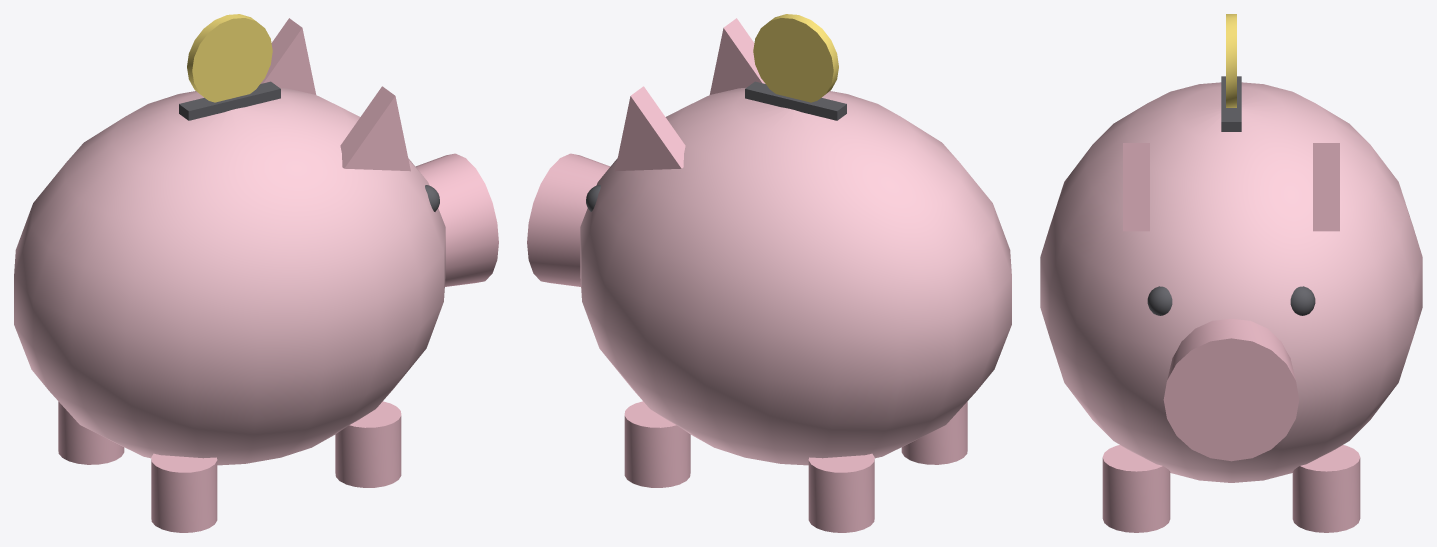
File: ong_heo.glb
3 views of the same model, side by side, from view 1: azimuth 30°, elevation 25°; view 2: azimuth 150°, elevation 25°; view 3: azimuth 270°, elevation 25° (orthographic). The views are drawn at different scales.
Visible parts, largest first — view 1: Sph1, Cyl1, Cyl2, Cyl4, Cyl6, Pri1, Pri2, Cyl3, Box1; view 2: Sph1, Cyl1, Cyl2, Cyl3, Cyl5, Pri2, Pri1, Cyl4, Box1; view 3: Sph1, Cyl1, Cyl5, Cyl6, Pri1, Pri2, Cyl2, Box1, Sph2, Sph3.
Part boxes in pixels (x1=…): Sph1: x1=14, y1=88, x2=445, y2=465; Cyl1: x1=415, y1=153, x2=498, y2=286; Cyl2: x1=187, y1=14, x2=272, y2=102; Cyl4: x1=151, y1=453, x2=217, y2=532; Cyl6: x1=335, y1=401, x2=401, y2=487; Pri1: x1=340, y1=86, x2=410, y2=171; Pri2: x1=260, y1=18, x2=316, y2=94; Cyl3: x1=58, y1=401, x2=124, y2=464; Box1: x1=179, y1=81, x2=280, y2=120; Sph1: x1=580, y1=88, x2=1011, y2=465; Cyl1: x1=527, y1=153, x2=610, y2=286; Cyl2: x1=753, y1=14, x2=838, y2=102; Cyl3: x1=808, y1=453, x2=874, y2=532; Cyl5: x1=624, y1=401, x2=690, y2=487; Pri2: x1=615, y1=86, x2=685, y2=171; Pri1: x1=709, y1=18, x2=765, y2=94; Cyl4: x1=901, y1=401, x2=967, y2=464; Box1: x1=745, y1=81, x2=846, y2=120; Sph1: x1=1040, y1=82, x2=1422, y2=482; Cyl1: x1=1163, y1=319, x2=1299, y2=461; Cyl5: x1=1292, y1=445, x2=1360, y2=532; Cyl6: x1=1102, y1=445, x2=1170, y2=532; Pri1: x1=1123, y1=143, x2=1149, y2=231; Pri2: x1=1313, y1=143, x2=1339, y2=231; Cyl2: x1=1226, y1=14, x2=1236, y2=107; Box1: x1=1221, y1=76, x2=1241, y2=131; Sph2: x1=1147, y1=286, x2=1172, y2=315; Sph3: x1=1290, y1=286, x2=1315, y2=315.
Size of the model in its own units: 0.3757 by 0.37 by 0.2821.
